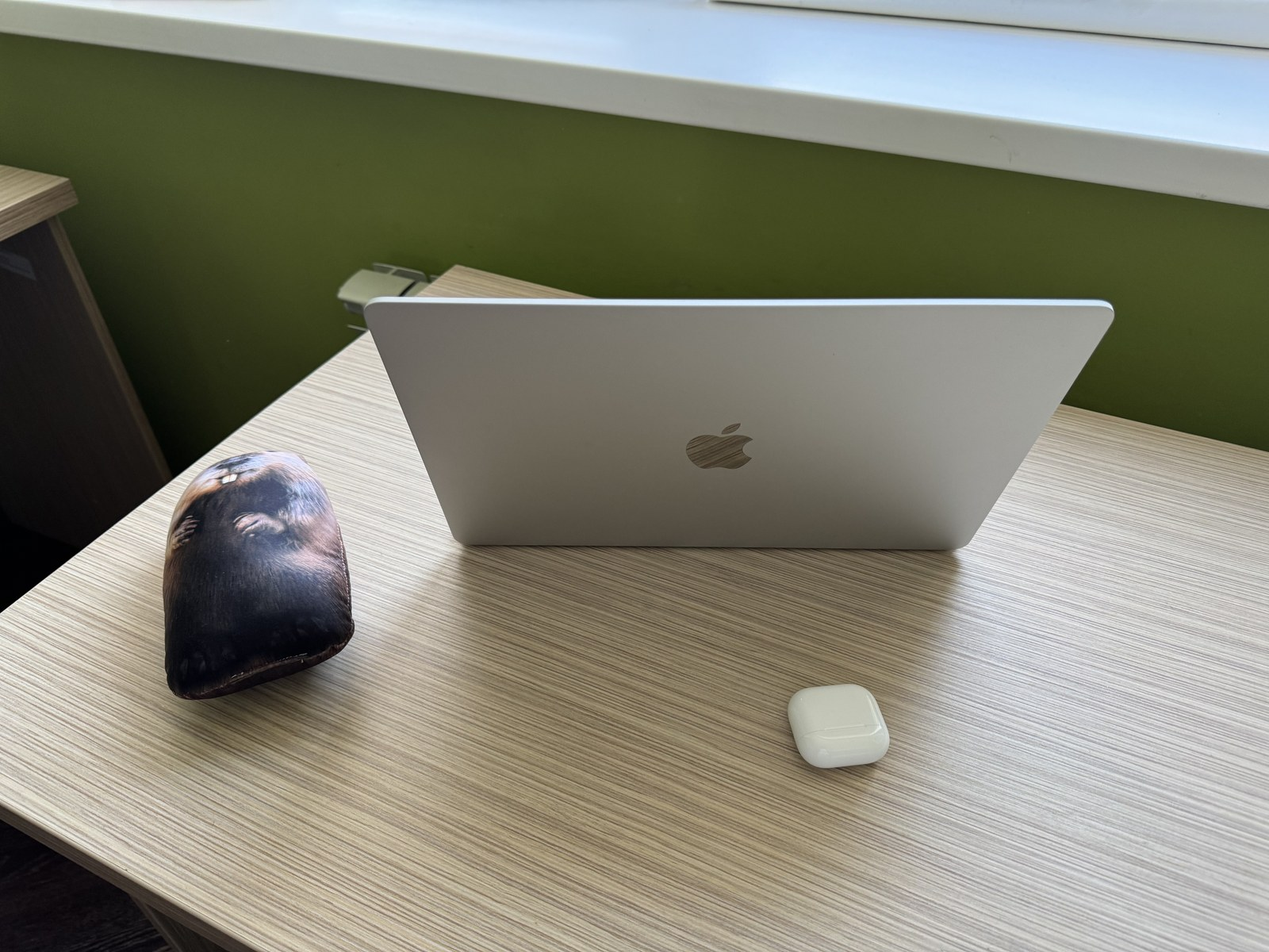laptop: (362, 296, 1115, 551)
